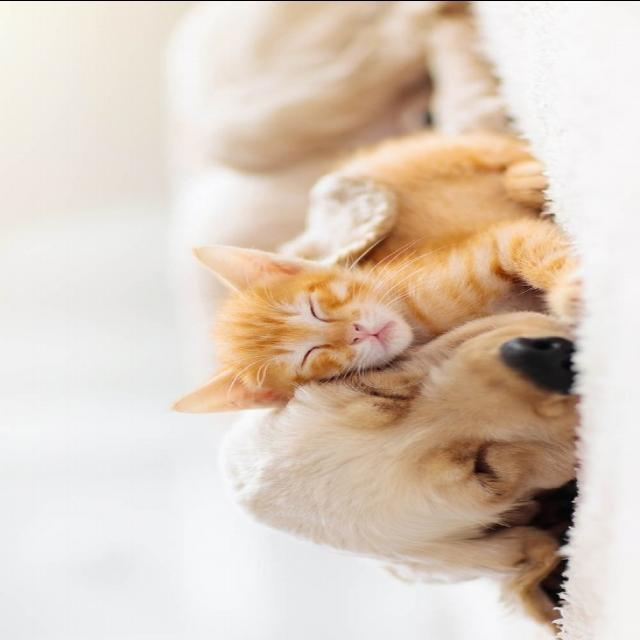cat: (173, 138, 531, 412)
dog: (198, 4, 616, 594)
